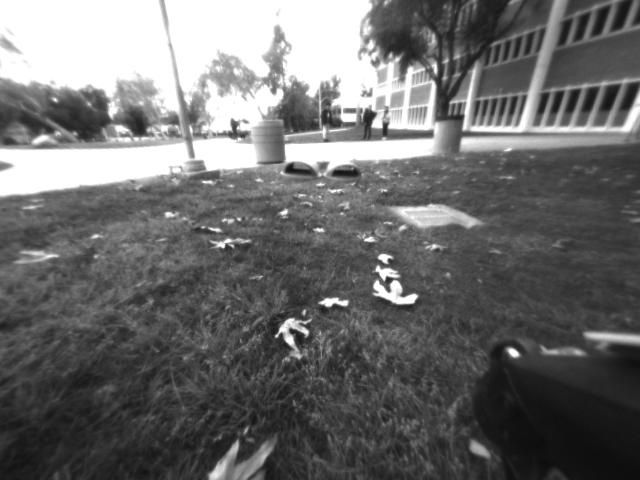trashcan: (252, 117, 291, 166), (434, 111, 464, 166)
